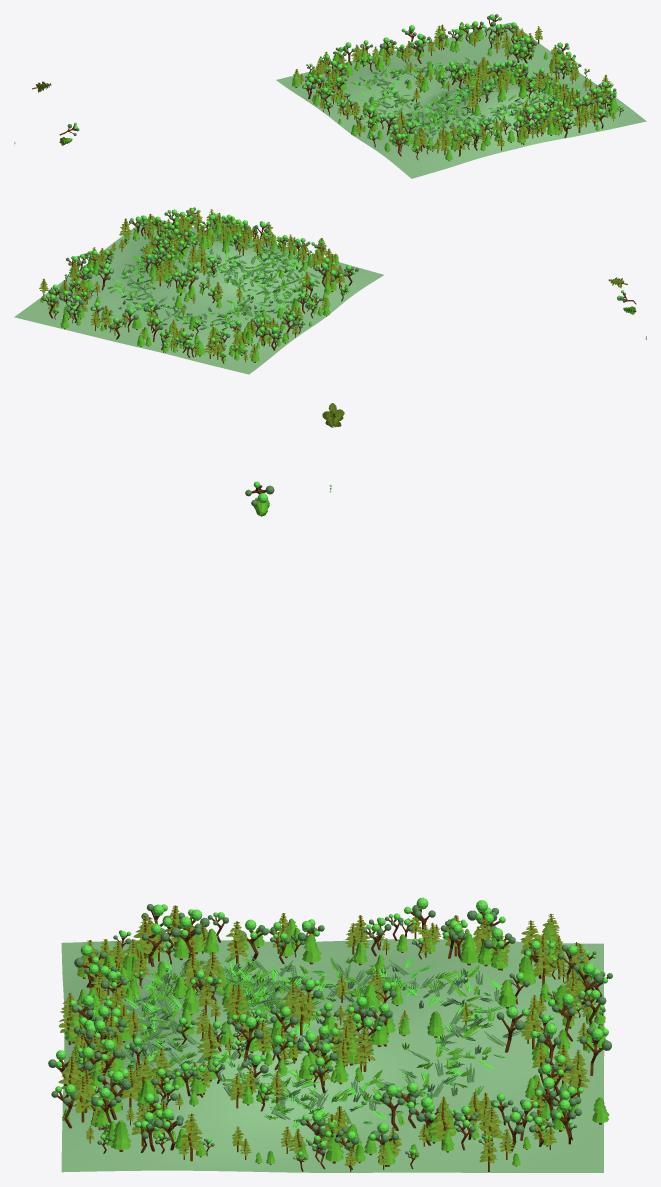
File: newForestMap5.gltf
3 views of the same model, one above another, from view 1: azimuth 30°, elevation 25°; view 2: azimuth 150°, elevation 25°; view 3: azimuth 270°, elevation 25° (orthographic). The views are drawn at different scales.
Visible parts, largest first — view 1: Plane; view 2: Plane; view 3: Plane.
Boxes of the visible parts, bbox=[...] form: Plane: bbox=[276, 22, 646, 178]; Plane: bbox=[14, 219, 383, 374]; Plane: bbox=[61, 939, 604, 1172].
Size of the model in its own units: 241 by 49.33 by 104.
